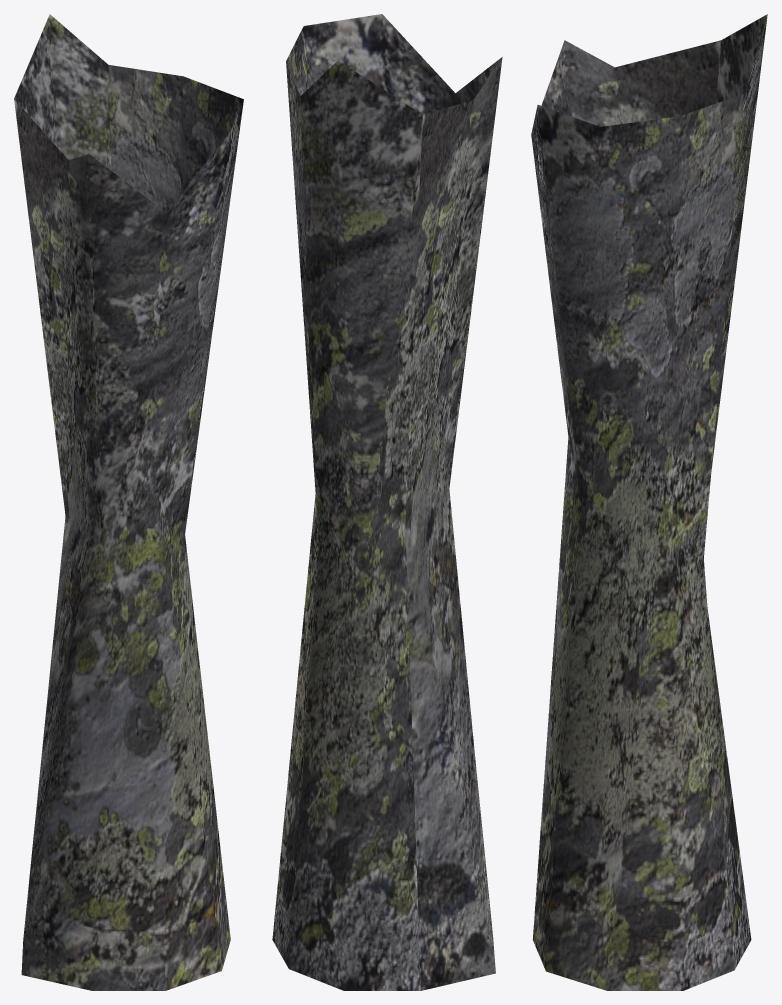
Rendered from pillar.FBX.
3 renders of one model, left to right at view 1: azimuth 30°, elevation 25°; view 2: azimuth 150°, elevation 25°; view 3: azimuth 270°, elevation 25°, orthographic. The views are drawn at different scales.
Parts seen in each view (by area): view 1: Cylinder001; view 2: Cylinder001; view 3: Cylinder001.
Boxes of the visible parts, x1,y1,x2,y2 form: Cylinder001: (14, 14, 243, 990); Cylinder001: (272, 14, 502, 990); Cylinder001: (531, 14, 767, 990).
Size of the model in its own units: 25.22 by 106 by 24.62.
